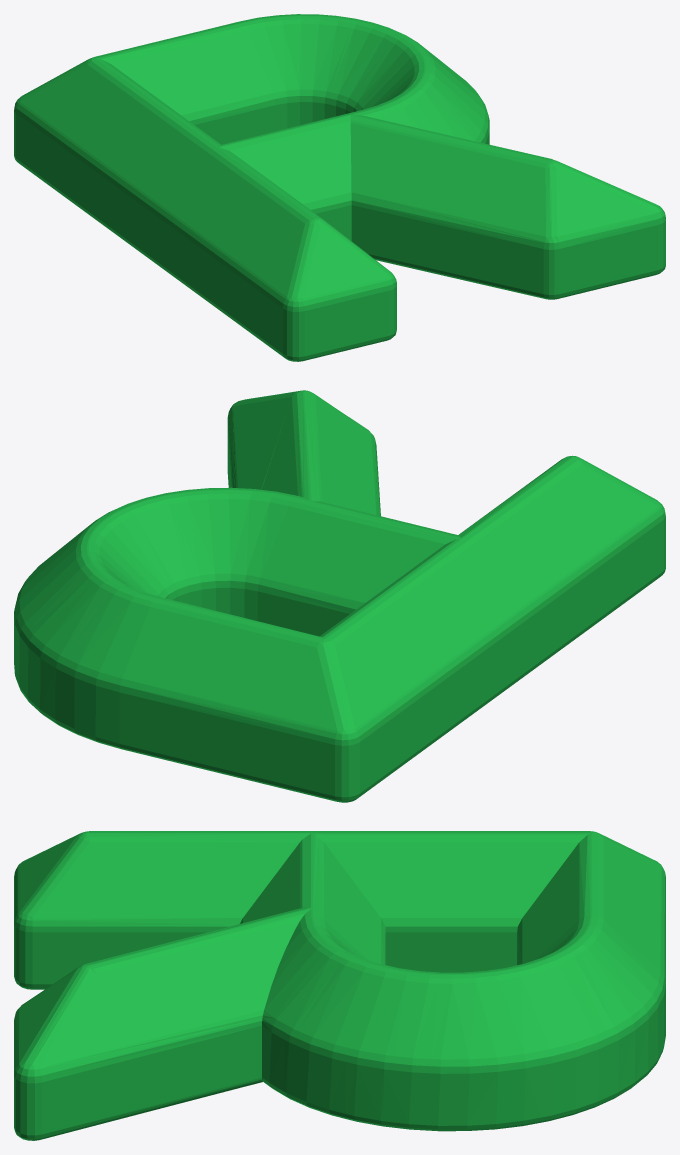
3 views of the same model, one above another, from view 1: azimuth 30°, elevation 25°; view 2: azimuth 150°, elevation 25°; view 3: azimuth 270°, elevation 25° (orthographic). The views are drawn at different scales.
Size of the model in its own units: 0.0151 by 0.00423 by 0.0195.
